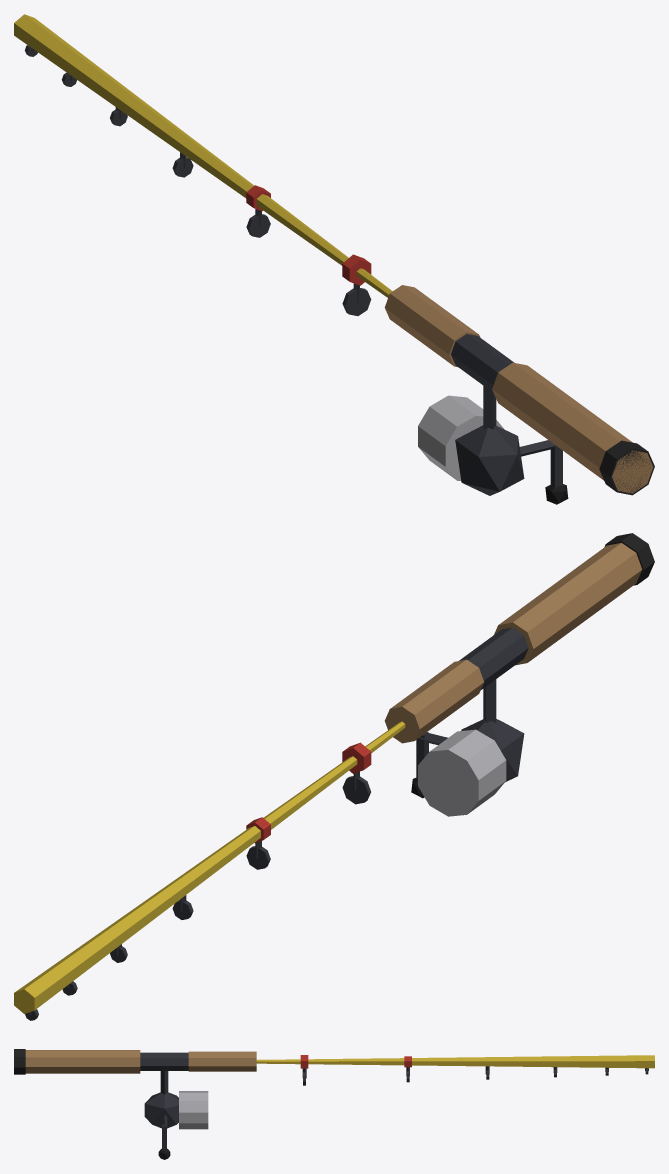
Rendered from FiberglassRod.glb.
The picture shows the model from 3 angles, top to bottom: view 1: azimuth 30°, elevation 25°; view 2: azimuth 150°, elevation 25°; view 3: azimuth 270°, elevation 25°; orthographic projection. The views are drawn at different scales.
Parts seen in each view (by area): view 1: FiberglassRod; view 2: FiberglassRod; view 3: FiberglassRod.
Boxes of the visible parts, left/top/right/bottom form: FiberglassRod: left=14, top=14, right=654, bottom=504; FiberglassRod: left=14, top=533, right=654, bottom=1020; FiberglassRod: left=14, top=1049, right=654, bottom=1159.
Bounding box in the file's own units: 0.6728 × 1.06 × 6.6.
